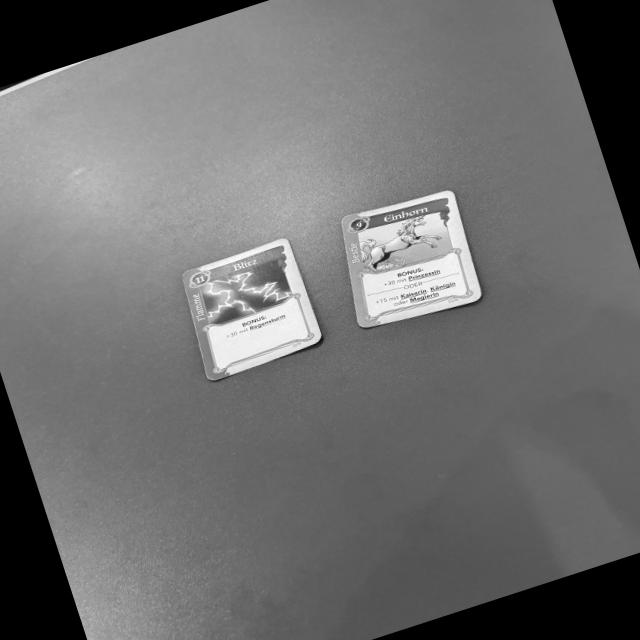Lightning: (183, 238, 326, 385)
Unicorn: (341, 190, 482, 328)
